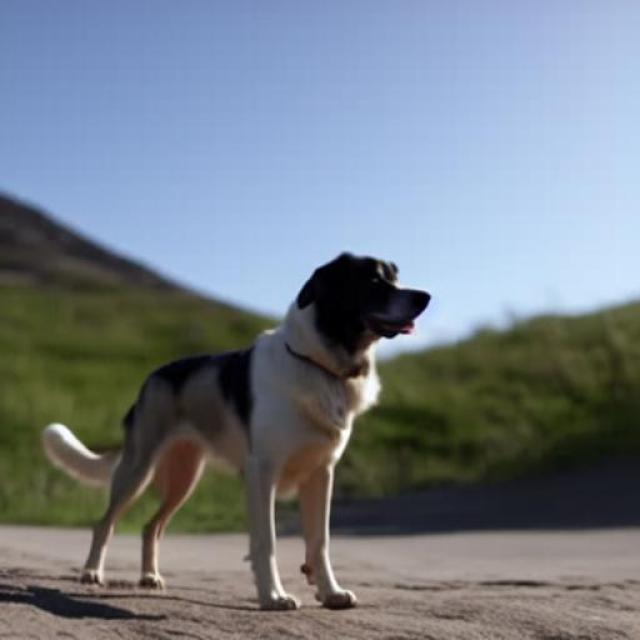Dog: (43, 252, 431, 610)
